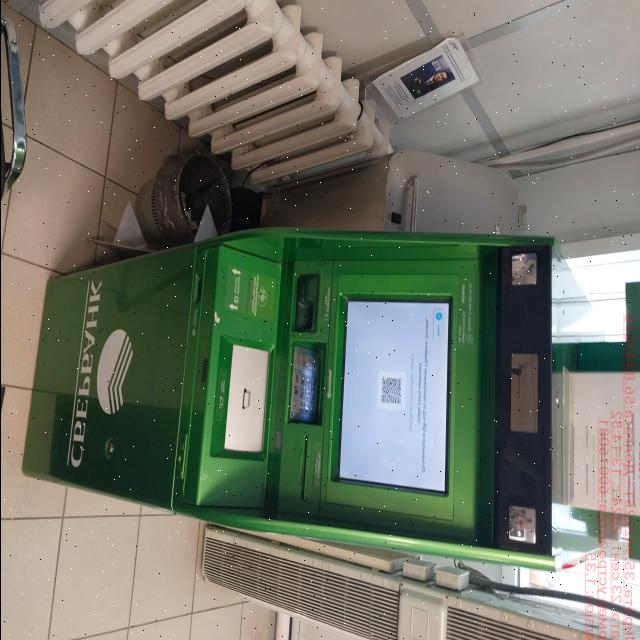bank: (18, 222, 600, 572)
